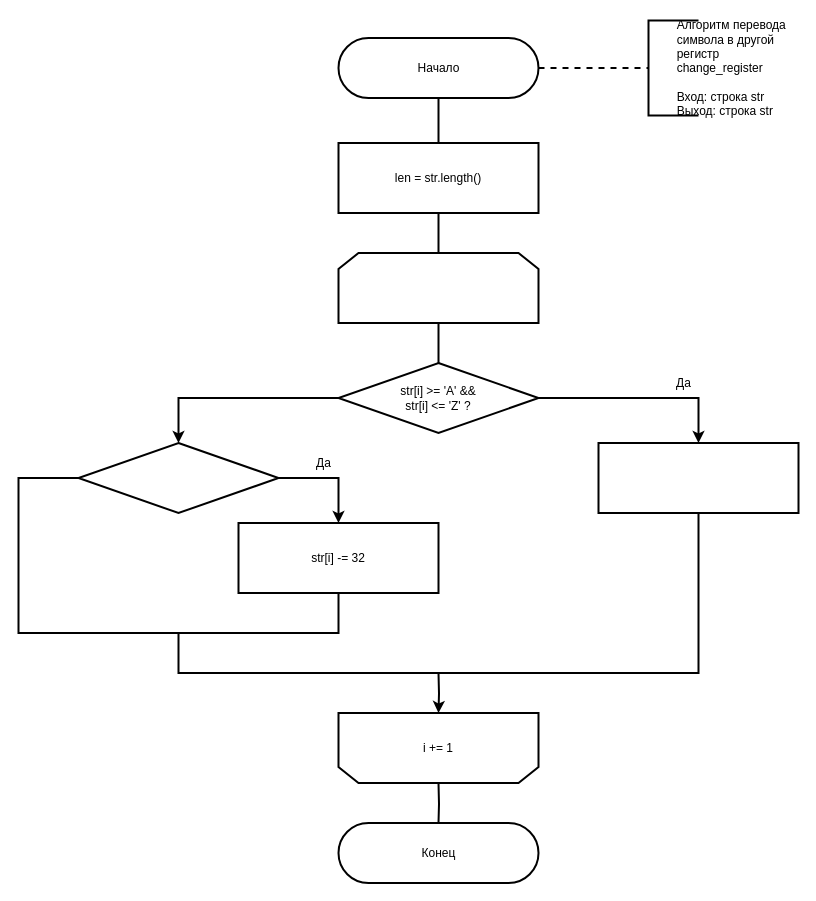
This 816x901 diagram has some shape labels left out. The centre of each missing label's shape, as x and y in pixels:
"str[i] += 32" belongs at (x=698, y=478).
"str[i] >= 'a' && str[i] <= 'z'" belongs at (x=178, y=478).
"Цикл i от 0 до len" belongs at (x=438, y=288).
